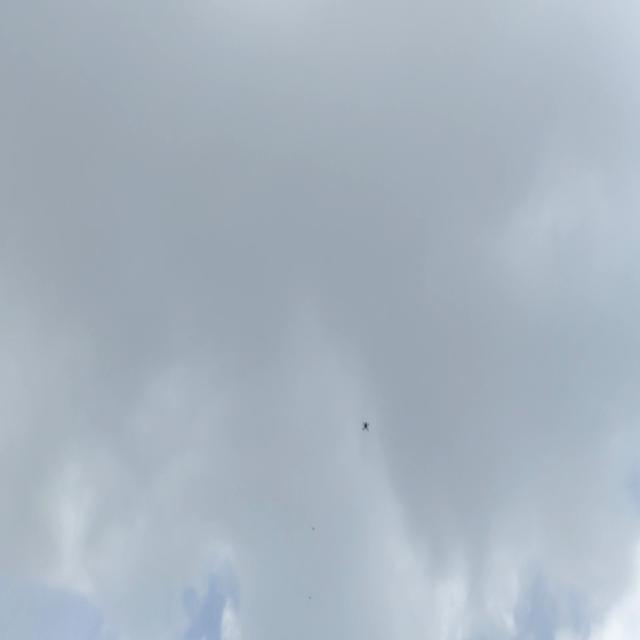drone: (359, 417, 370, 435)
